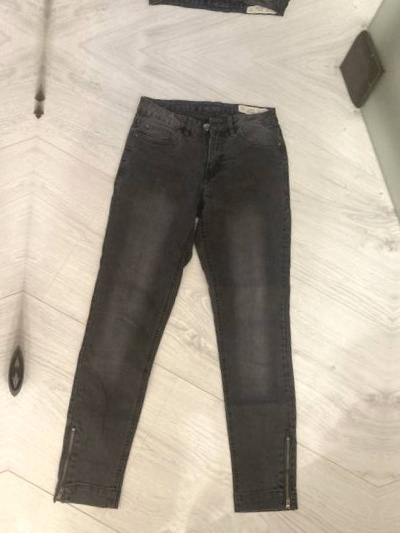Pants: (52, 75, 350, 521), (93, 0, 391, 38), (0, 0, 37, 8)
